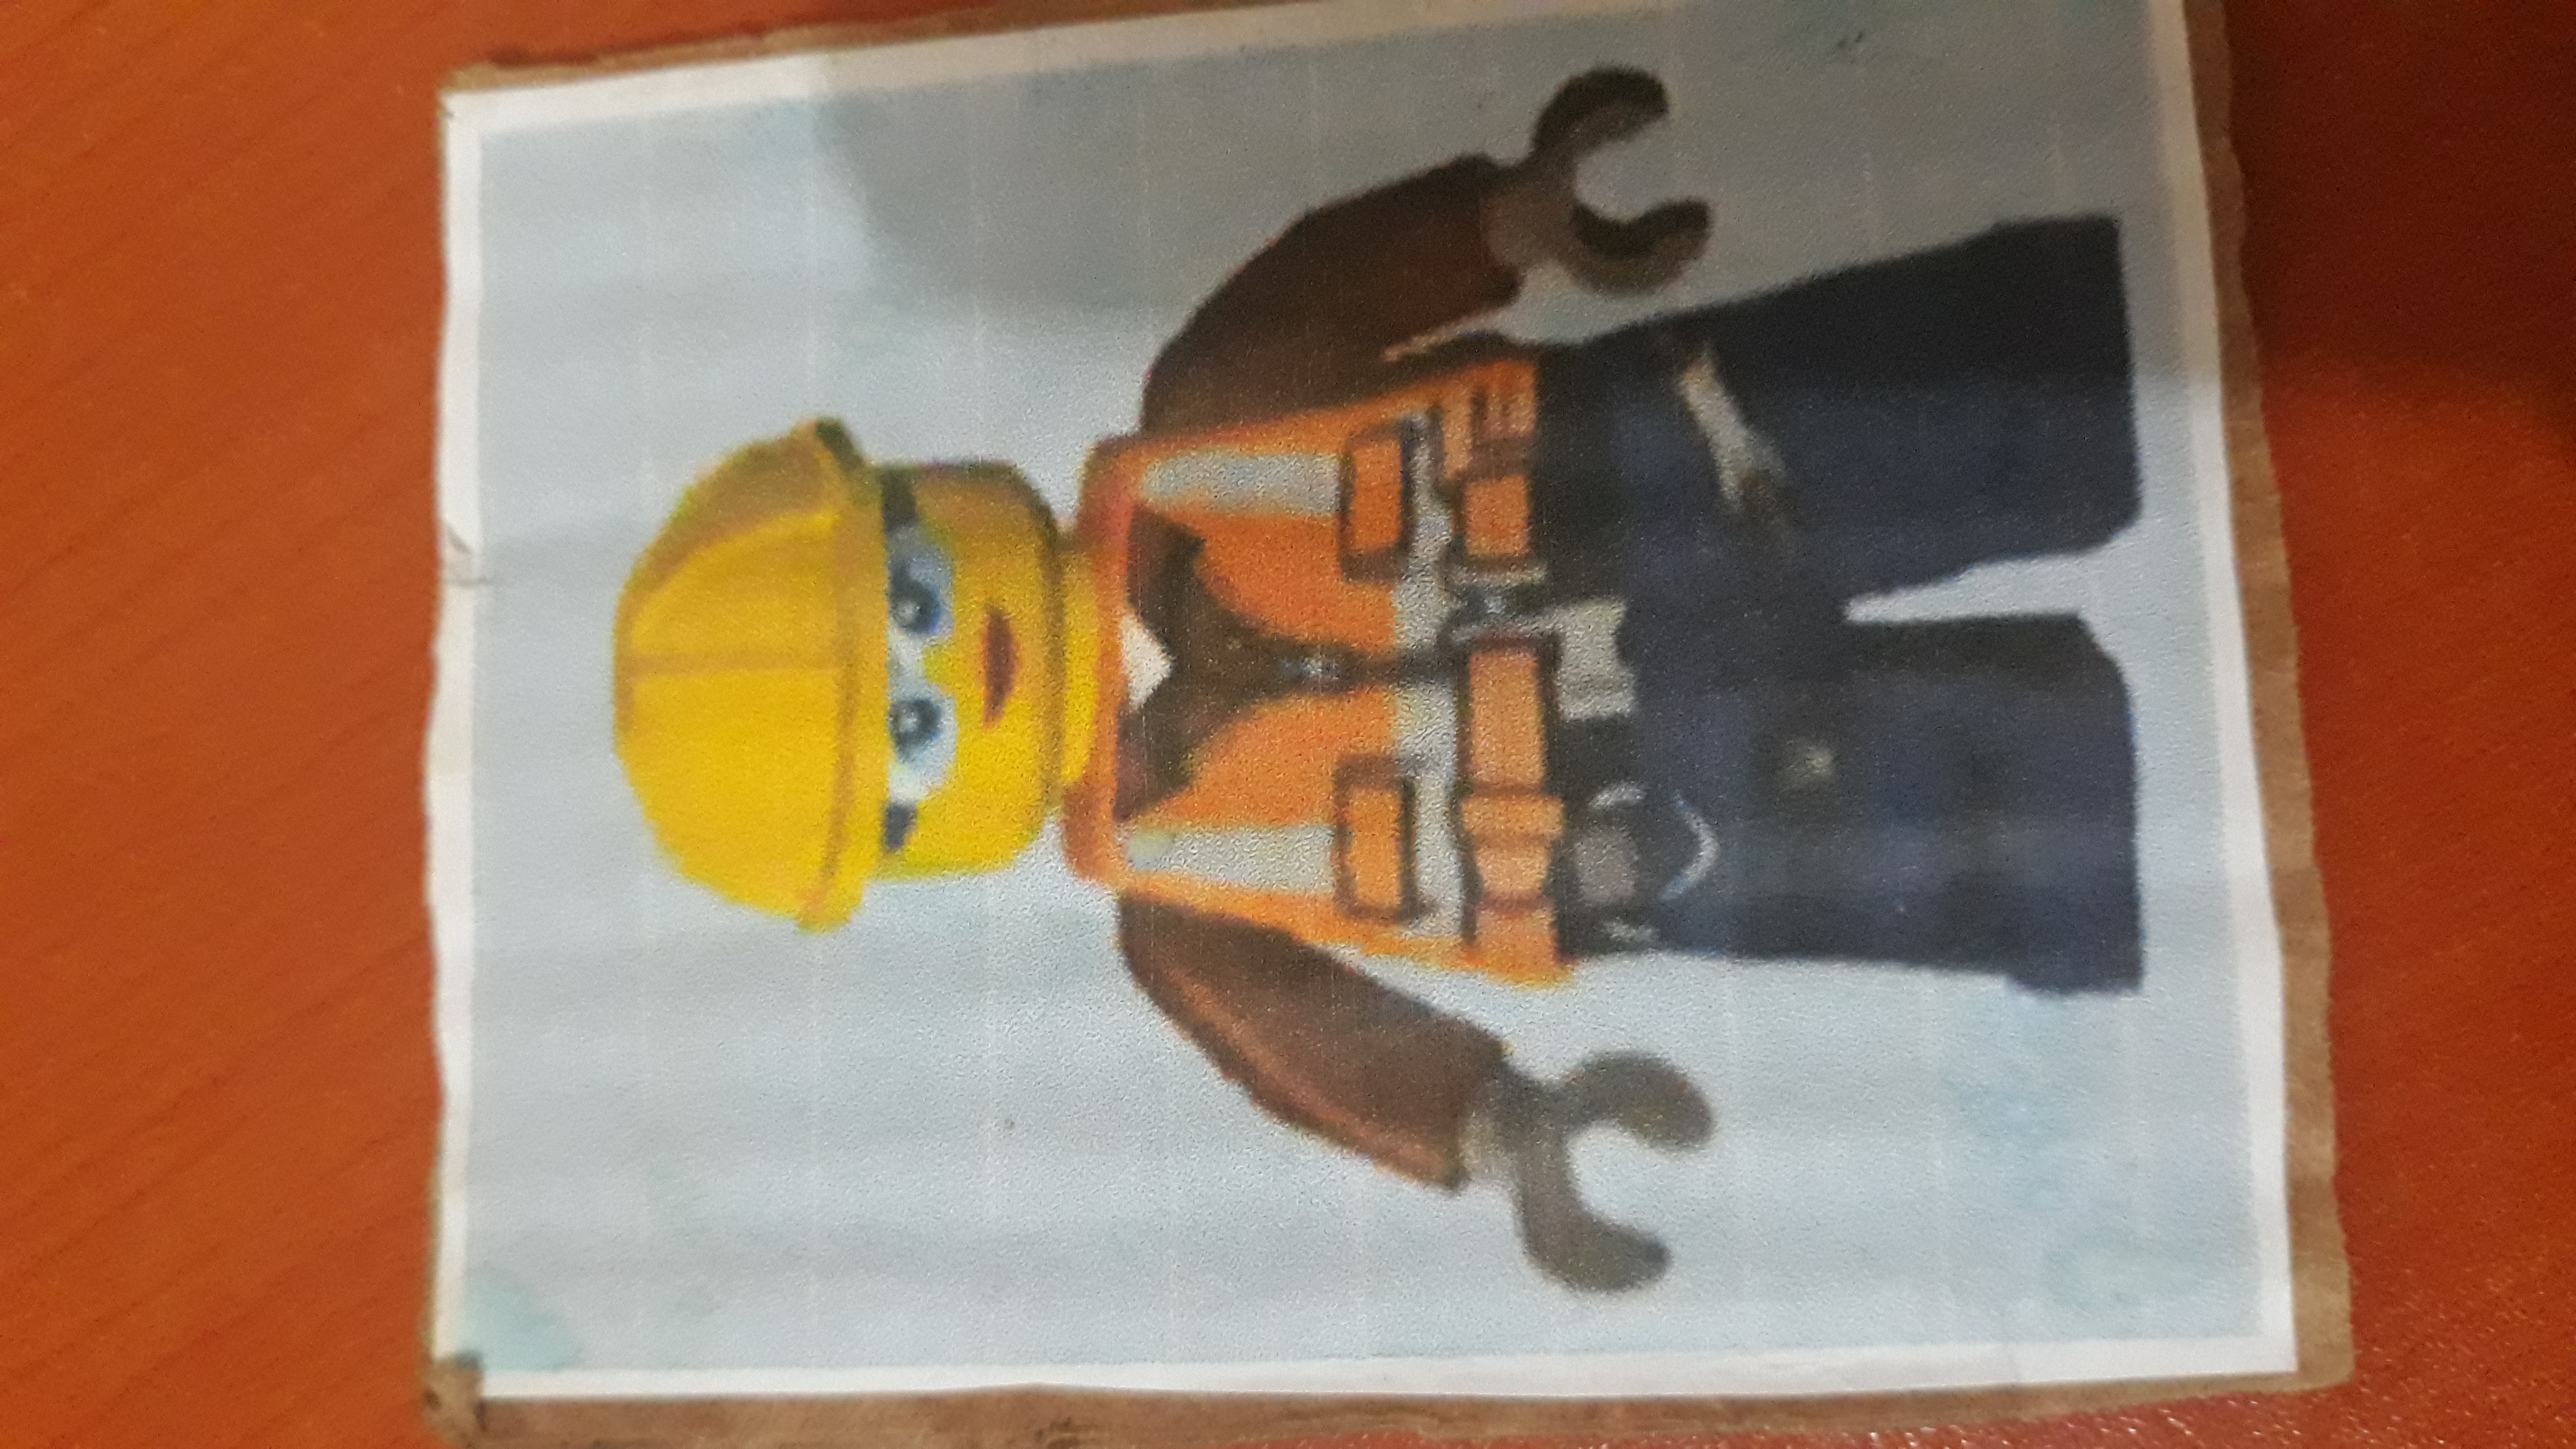pedestrian: (627, 49, 2252, 1329)
